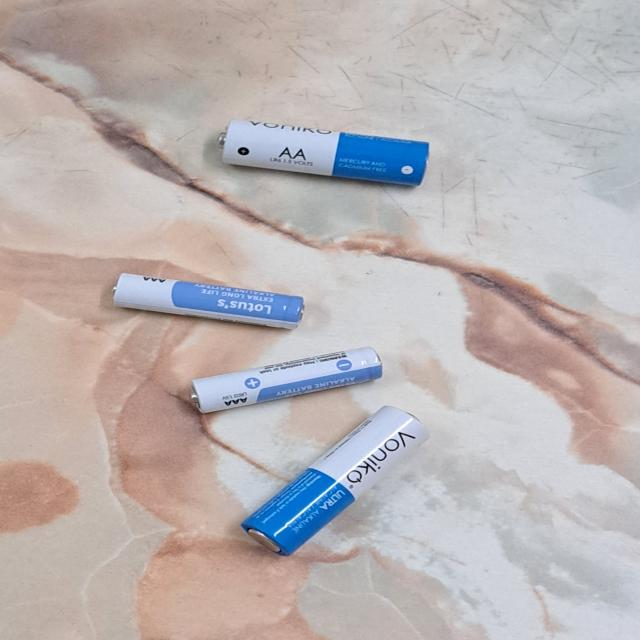battery: (238, 402, 432, 557), (219, 114, 430, 185), (185, 344, 388, 415), (112, 270, 308, 330)
